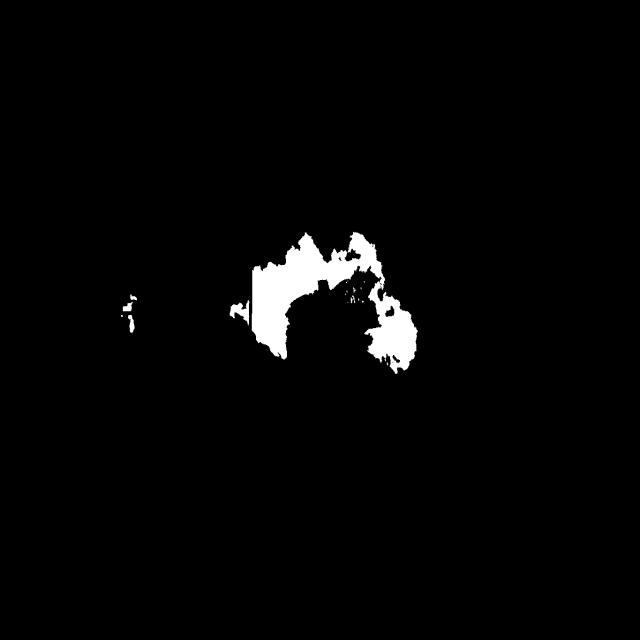fire: (126, 194, 514, 447)
